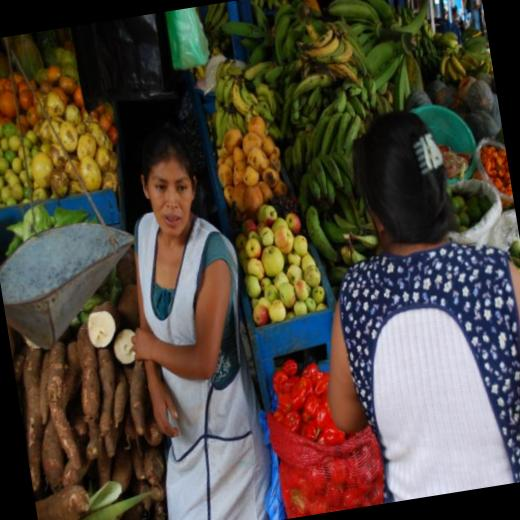Banana: (193, 0, 520, 298), (230, 76, 258, 117)
